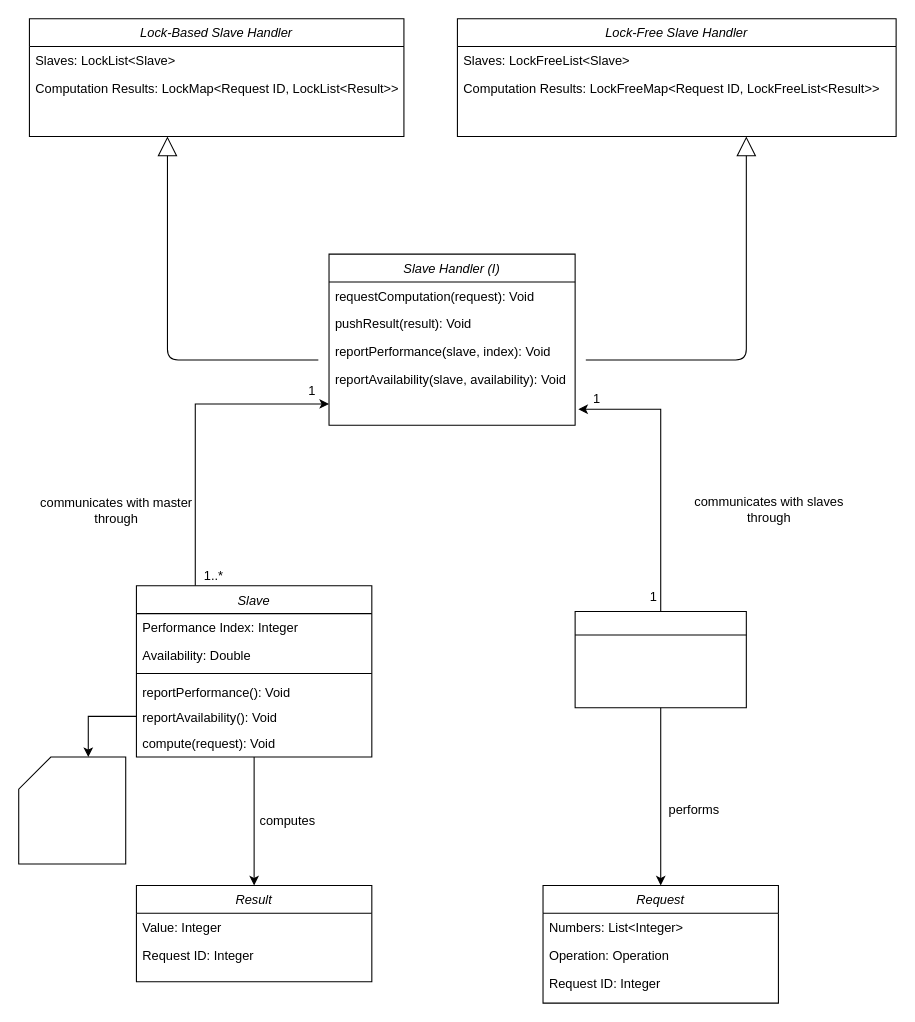
The diagram is 915 pixels wide and 1022 high, and some of its shapes have lost their labels. Here are the shapes that lost their labels. From the top down, the centre of each, then its label:
At point (660, 659): "Master".
At point (72, 810): "Operation can either be + or *".
